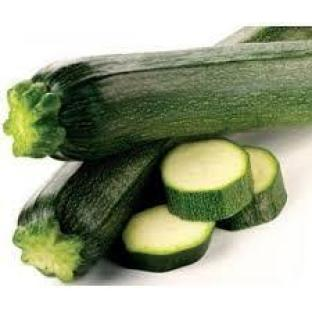Zucchini: (5, 41, 311, 159), (14, 145, 162, 281), (161, 139, 252, 221), (116, 206, 214, 271), (218, 147, 287, 230), (245, 27, 311, 42)
